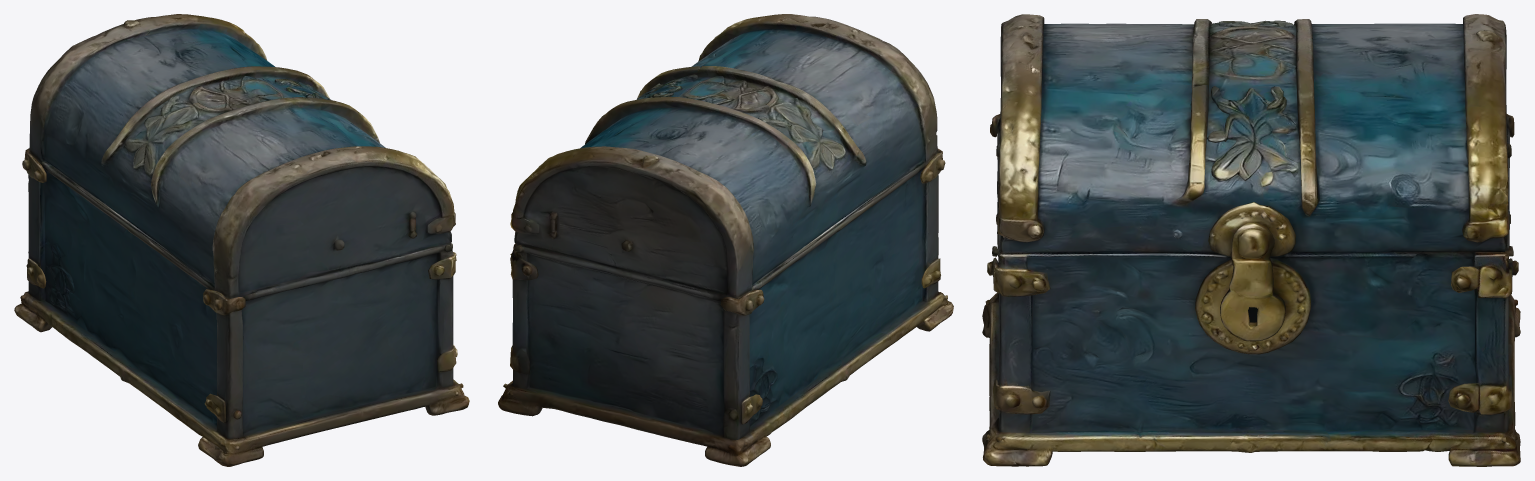
File: sinduk.glb
The picture shows the model from 3 angles, left to right: view 1: azimuth 30°, elevation 25°; view 2: azimuth 150°, elevation 25°; view 3: azimuth 270°, elevation 25°; orthographic projection. The views are drawn at different scales.
Visible parts, largest first — view 1: tripo_node_258ba95f-a8da-402c-8b94-4db0865488af; view 2: tripo_node_258ba95f-a8da-402c-8b94-4db0865488af; view 3: tripo_node_258ba95f-a8da-402c-8b94-4db0865488af.
Boxes of the visible parts, x1=… form: tripo_node_258ba95f-a8da-402c-8b94-4db0865488af: x1=14, y1=14, x2=469, y2=466; tripo_node_258ba95f-a8da-402c-8b94-4db0865488af: x1=498, y1=14, x2=953, y2=466; tripo_node_258ba95f-a8da-402c-8b94-4db0865488af: x1=982, y1=14, x2=1520, y2=466.
Bounding box in the file's own units: 0.6943 × 0.716 × 1.
Materials: 1 (1 with a texture image).
